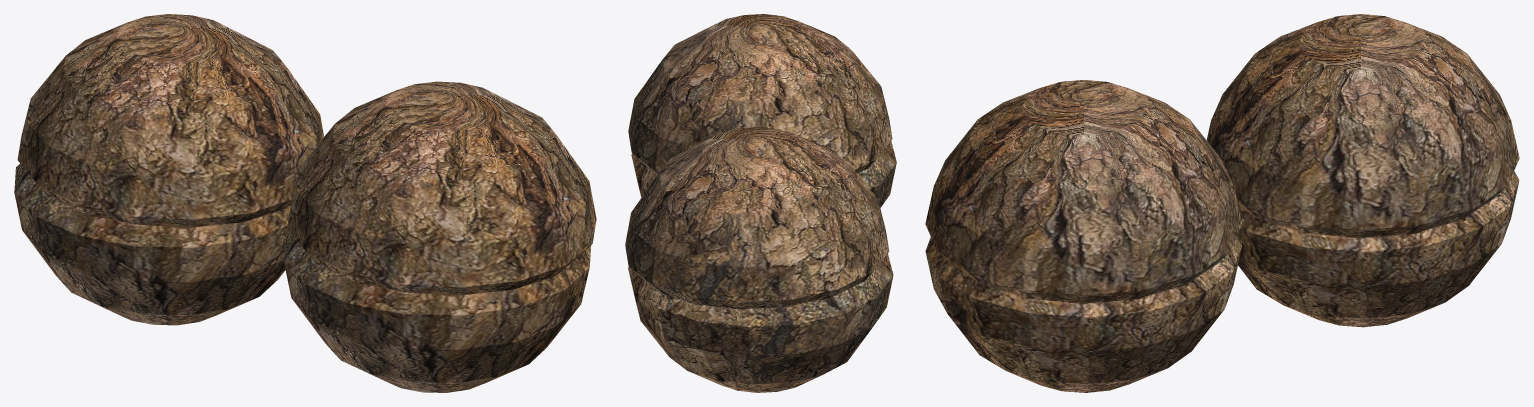
Rendered from eyesAnimated_0m.glb.
The picture shows the model from 3 angles, left to right: view 1: azimuth 30°, elevation 25°; view 2: azimuth 150°, elevation 25°; view 3: azimuth 270°, elevation 25°; orthographic projection. The views are drawn at different scales.
Parts seen in each view (by area): view 1: topeyelid.001, topeyelid, bottomeyelid.001, bottomeyelid; view 2: topeyelid, topeyelid.001, bottomeyelid, bottomeyelid.001; view 3: topeyelid.001, topeyelid, bottomeyelid.001, bottomeyelid.
Part boxes in pixels (left/top/right/bottom): topeyelid.001: left=287, top=81, right=596, bottom=295; topeyelid: left=17, top=14, right=324, bottom=227; bottomeyelid.001: left=283, top=231, right=591, bottom=392; bottomeyelid: left=14, top=163, right=290, bottom=325; topeyelid: left=625, top=127, right=889, bottom=309; topeyelid.001: left=628, top=14, right=892, bottom=174; bottomeyelid: left=628, top=254, right=893, bottom=392; bottomeyelid.001: left=631, top=141, right=896, bottom=207; topeyelid.001: left=925, top=80, right=1242, bottom=303; topeyelid: left=1206, top=14, right=1519, bottom=238; bottomeyelid.001: left=925, top=237, right=1241, bottom=392; bottomeyelid: left=1237, top=171, right=1519, bottom=327.
Bounding box in the file's own units: 1.06 × 0.6974 × 1.32.
Materials: 2 (2 with a texture image).
